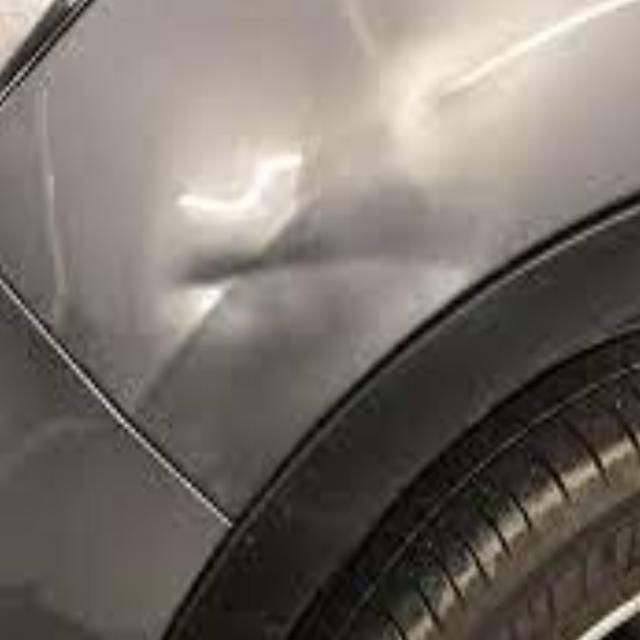dents: (152, 210, 398, 359)
